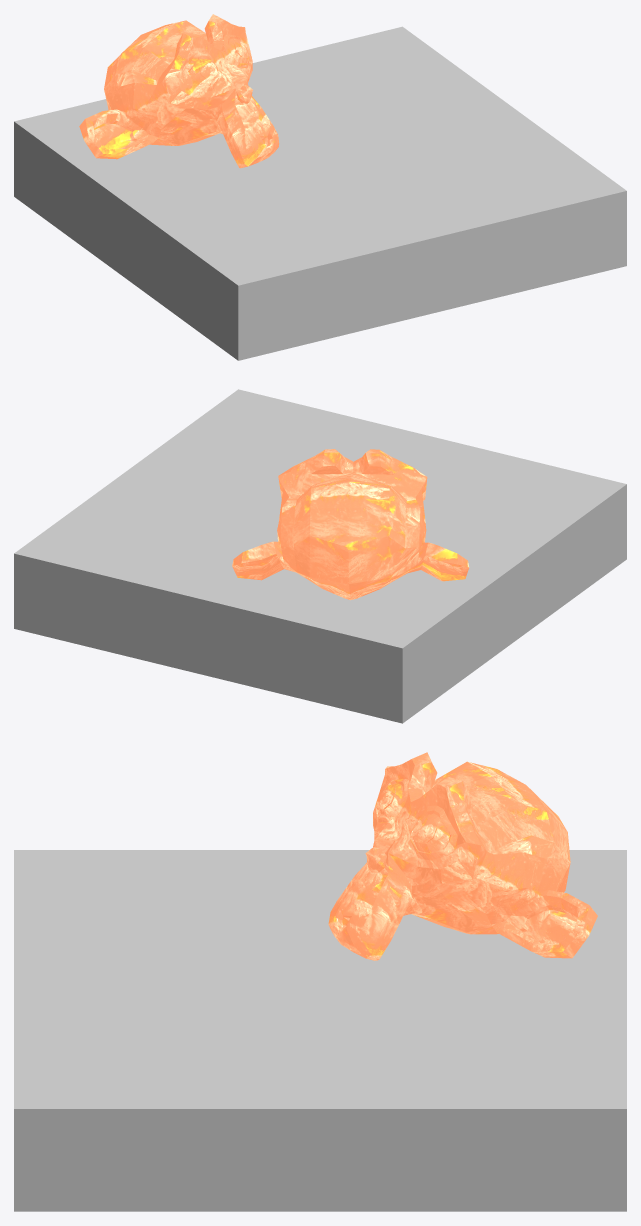
3 views of the same model, one above another, from view 1: azimuth 30°, elevation 25°; view 2: azimuth 150°, elevation 25°; view 3: azimuth 270°, elevation 25° (orthographic). The views are drawn at different scales.
Parts seen in each view (by area): view 1: Cube, Suzanne; view 2: Cube, Suzanne; view 3: Cube, Suzanne.
Boxes of the visible parts, box(x1,y1,x2,y2) form: Cube: box(14, 26, 626, 360); Suzanne: box(79, 14, 279, 168); Cube: box(14, 389, 626, 723); Suzanne: box(232, 449, 469, 600); Cube: box(14, 850, 626, 1211); Suzanne: box(328, 752, 597, 960).
Size of what is drawn, in the model's own units: 1.88 by 0.8955 by 1.88.
Materials: 2 (1 with a texture image).
